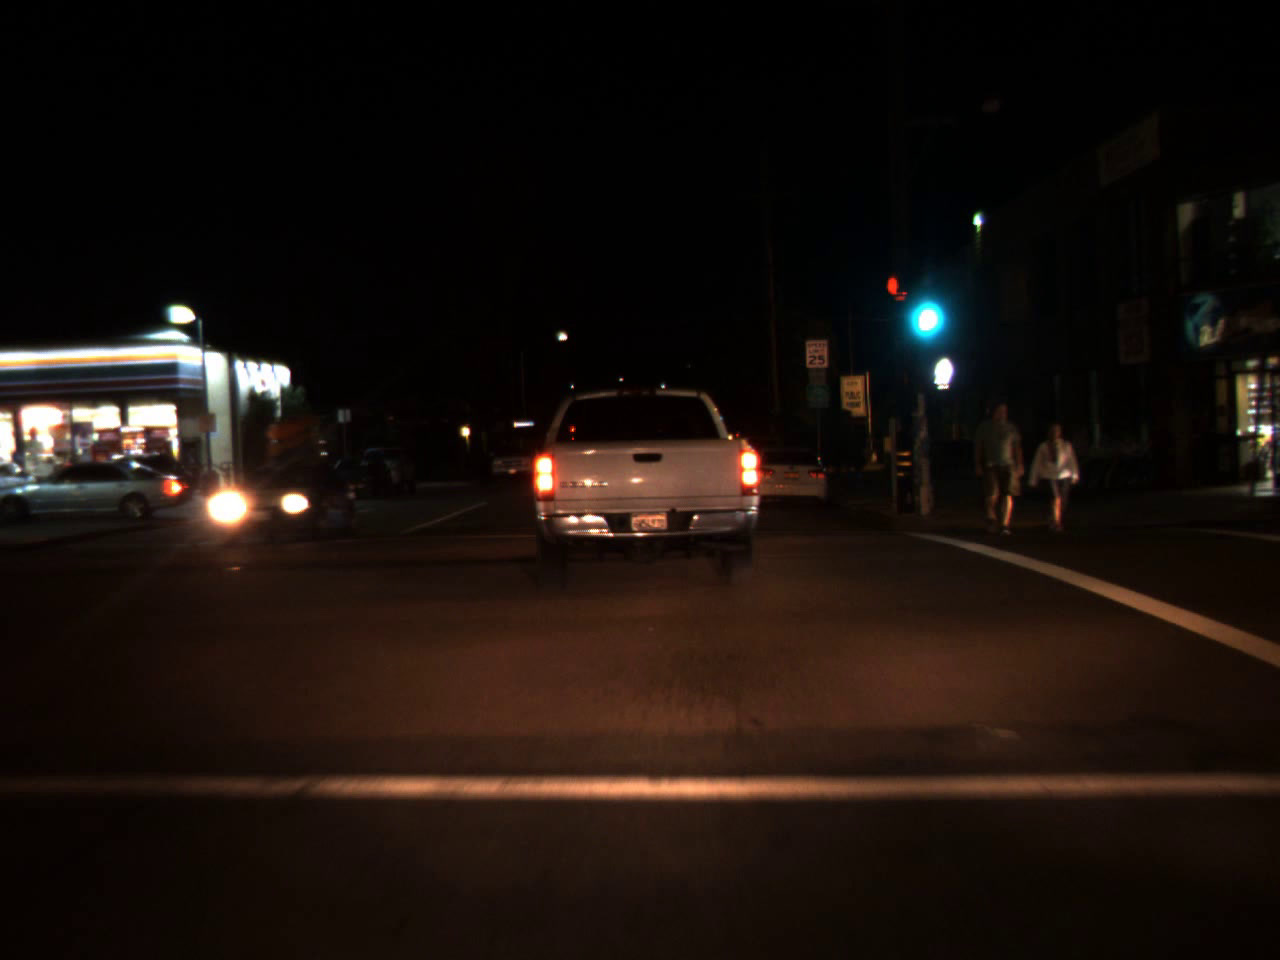go: (901, 268, 946, 346)
